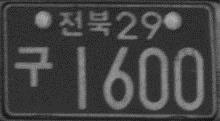0: (135, 46, 170, 110), (173, 46, 205, 110)
1: (74, 44, 88, 110)
2: (115, 10, 139, 40)
6: (102, 45, 134, 110)
9: (140, 10, 163, 39)
구: (14, 43, 53, 88)
전북_O: (58, 9, 111, 39)
